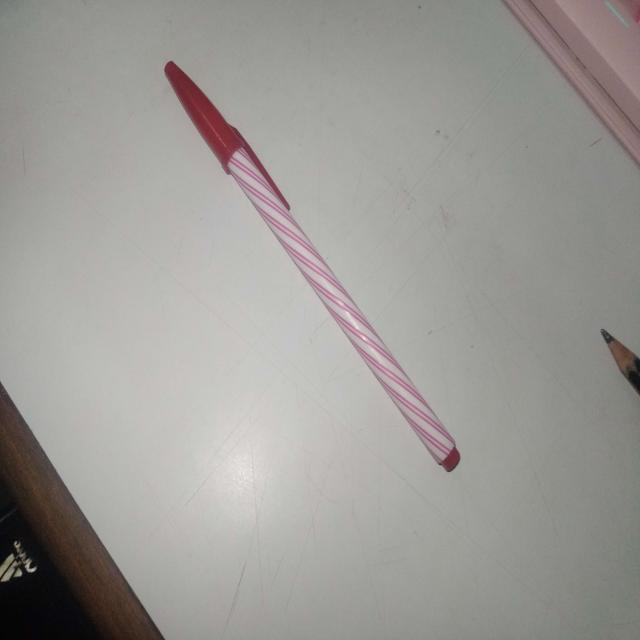pen_pencil: (137, 51, 469, 520)
